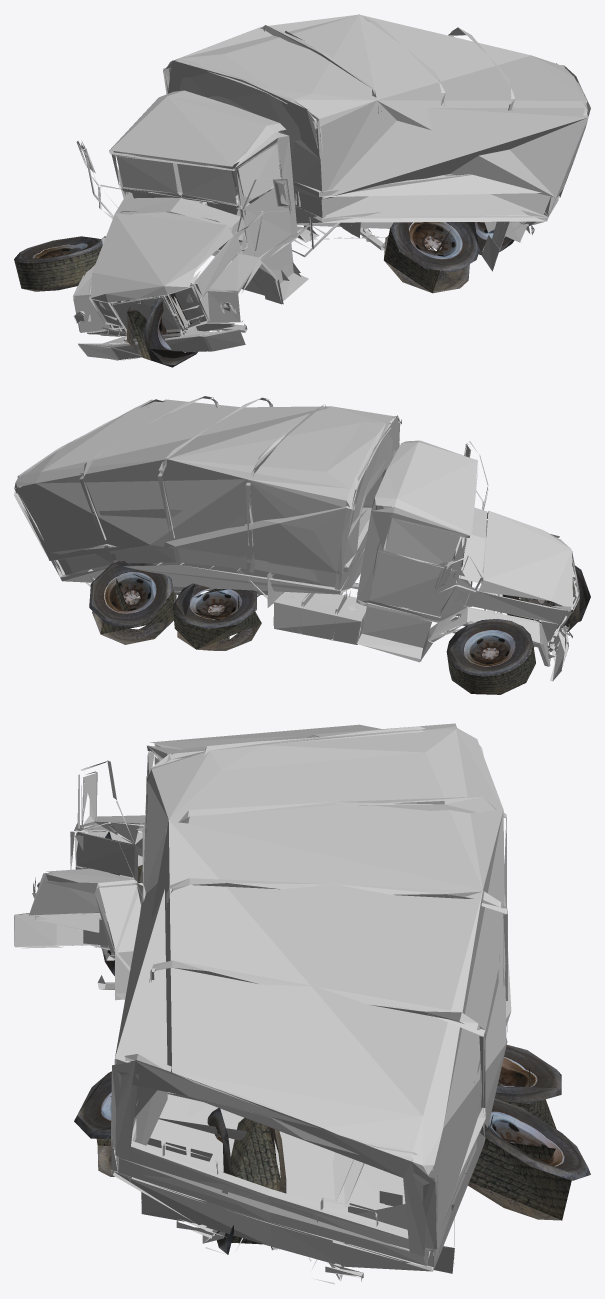
Rendered from Truck_Destroyed.fbx.
3 views of the same model, one above another, from view 1: azimuth 30°, elevation 25°; view 2: azimuth 150°, elevation 25°; view 3: azimuth 270°, elevation 25° (orthographic). The views are drawn at different scales.
Visible parts, largest first — view 1: BL; view 2: BL; view 3: BL.
Part boxes in pixels (bbox=[...]): BL: bbox=[14, 14, 590, 367]; BL: bbox=[14, 396, 590, 694]; BL: bbox=[14, 723, 590, 1284].
Size of the model in its own units: 1013 by 393 by 575.
